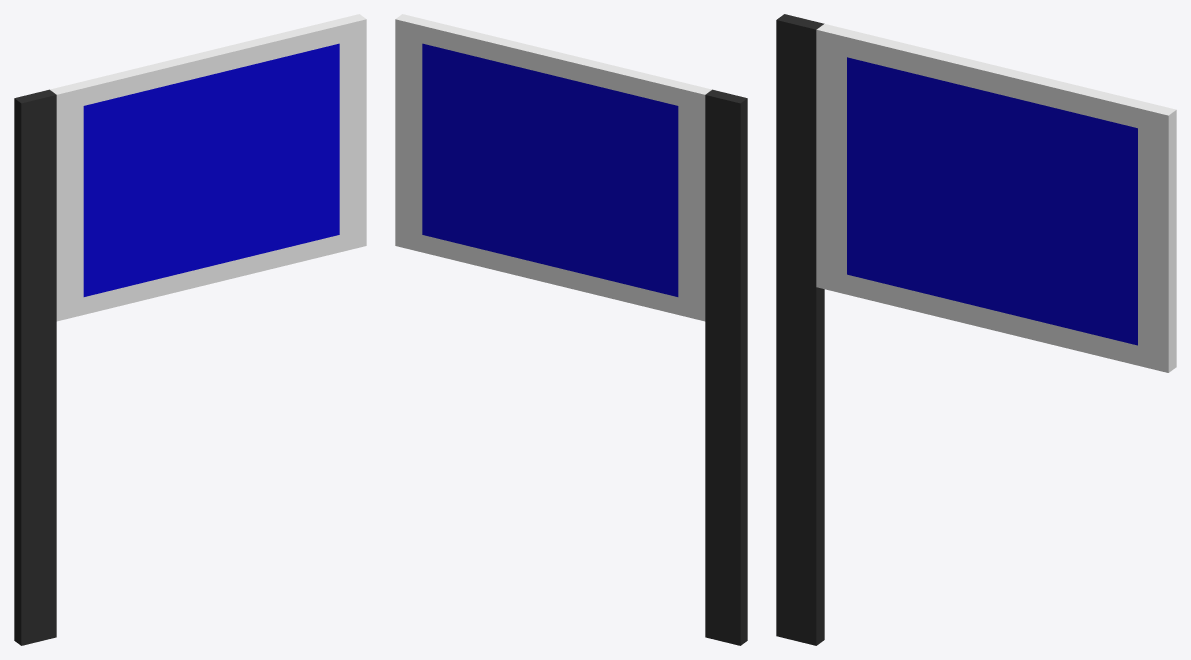
Rendered from blue flag.fbx.
3 renders of one model, left to right at view 1: azimuth 30°, elevation 25°; view 2: azimuth 150°, elevation 25°; view 3: azimuth 330°, elevation 25°, orthographic. The views are drawn at different scales.
Visible parts, largest first — view 1: blue flag; view 2: blue flag; view 3: blue flag.
Boxes of the visible parts, box(x1,y1,x2,y2) form: blue flag: box(14, 14, 366, 645); blue flag: box(395, 14, 747, 645); blue flag: box(776, 14, 1176, 645).
Size of the model in its own units: 147 by 221 by 5.28.
